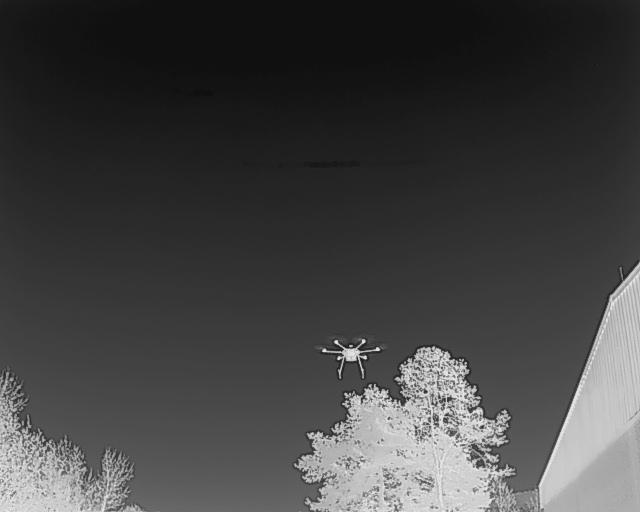drone: (317, 328, 387, 382)
